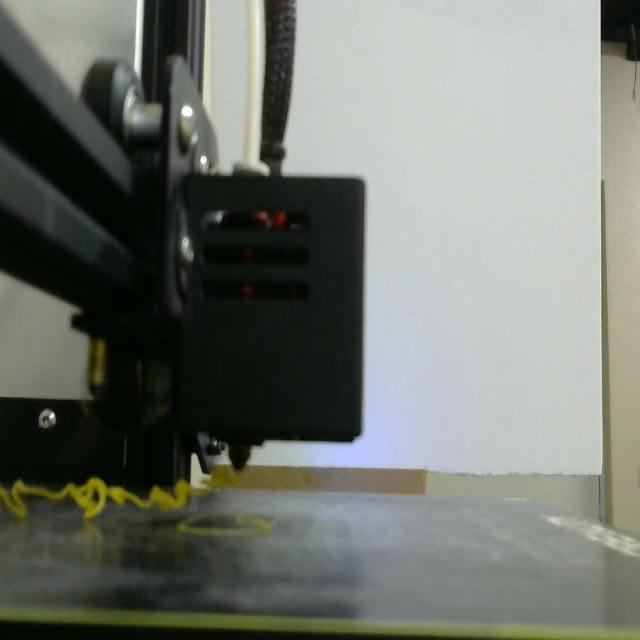spaghetti: (0, 477, 192, 520), (210, 467, 241, 488)
